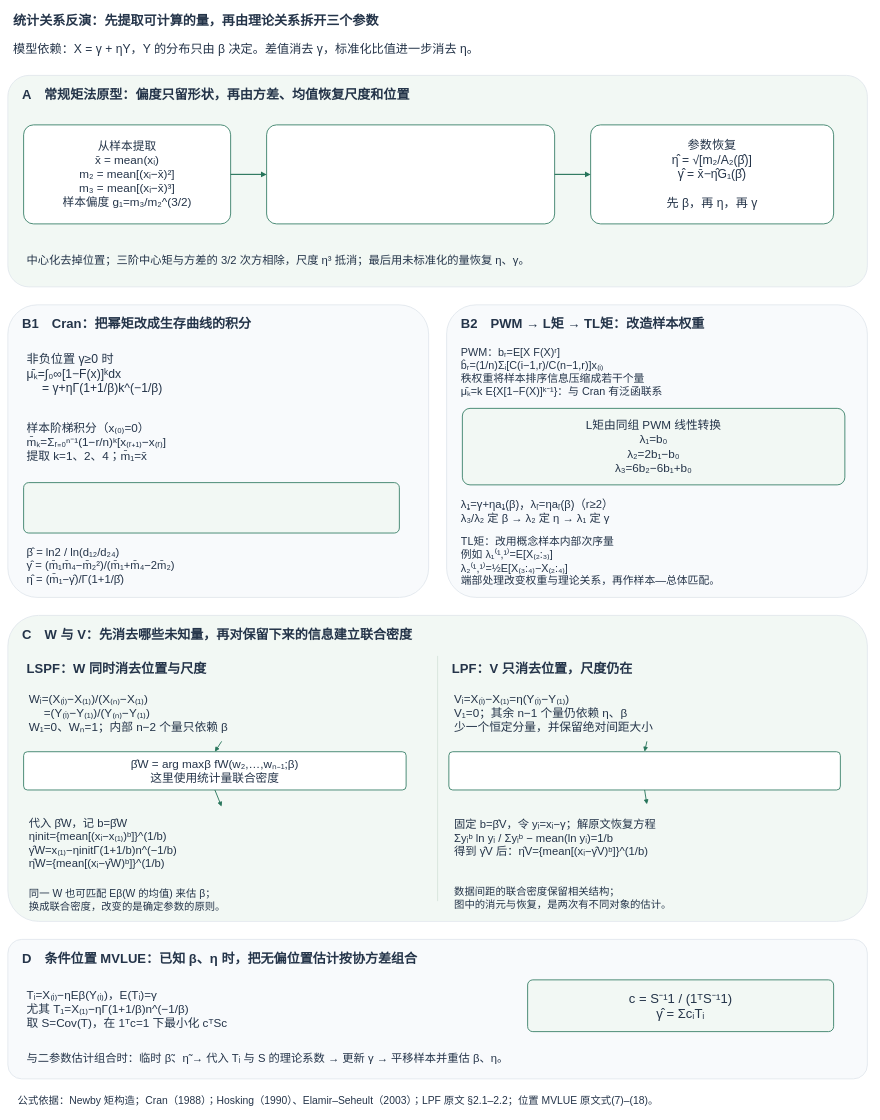
This 880x1120 diagram has some shape labels left out. Here are the shapes that lost their labels. From the top down, the centre of each, then its label:
At point 410,174: "总体关系消去 γ、η Gₖ(β)=Γ(1+k/β) A₂=G₂−G₁² A₃=G₃−3G₁G₂+2G₁³ 解 g₁=A₃/A₂^(3/2) 得 β̂".
At point 211,507: "d₁₂=m̄₁−m̄₂，d₂₄=m̄₂−m̄₄ 总体 d₁₂/d₂₄=2^(1/β) 差值消 γ，再作比值消 η".
At point 644,770: "(η̂V0,β̂V)=arg maxη,β fV(v₂,…,vₙ;η,β) 下一阶段保留 β̂V，重新恢复 η、γ".
